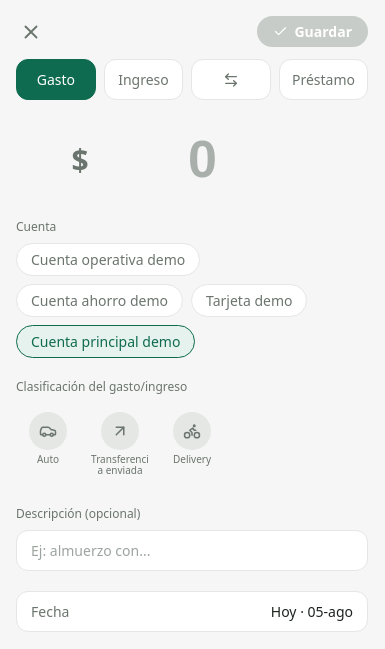
Test case: QuickEntryPage › requires amount, account, and category before saving GASTO or INGRESO
Expected: the button "Guardar" is disabled, [258,16,368,47]
Type "12500" into the field named "Monto".
click(203, 159); type("12500")  # box [93,128,313,190]
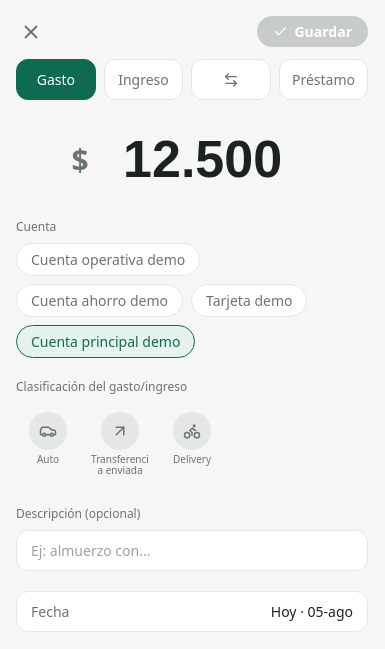
Expected: the button "Guardar" is disabled, [258,16,368,47]
Click the button "Auto".
click(48, 444)  # box [16,403,80,485]
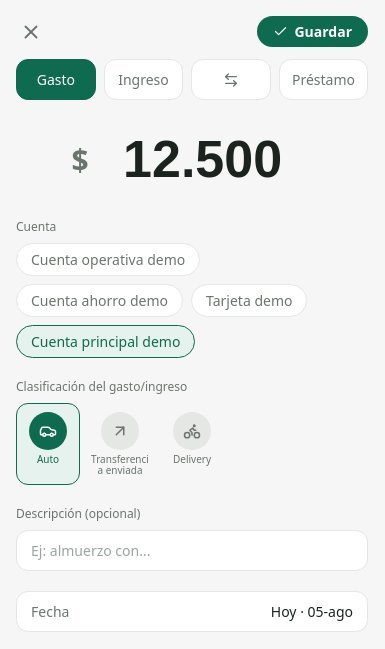
Expected: the button "Guardar" is enabled, [258,16,368,47]
Click the button "Ingreso".
click(144, 80)  # box [104,59,183,100]
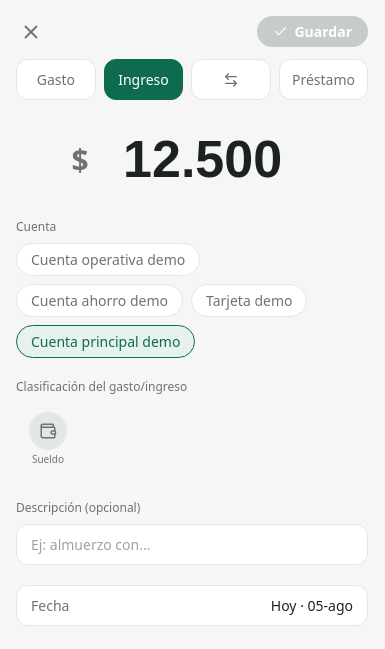
Expected: the button "Guardar" is disabled, [258,16,368,47]
Click the button "Sueldo".
click(48, 441)  # box [16,403,80,479]
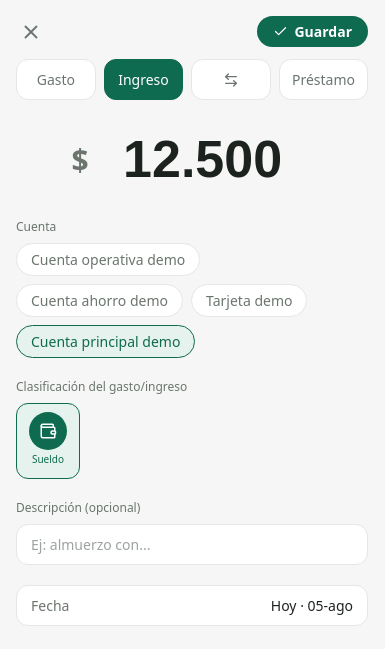
Expected: the button "Guardar" is enabled, [258,16,368,47]
